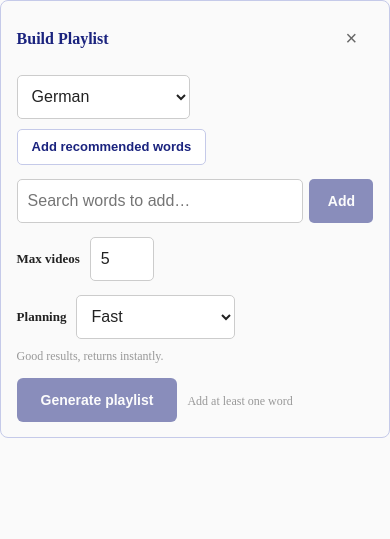
Test: PlaylistPanel planner selector › keeps the generic message for non-503 failures
Click the button "Add recommended words" at (111, 147), box [17,129,206,165]
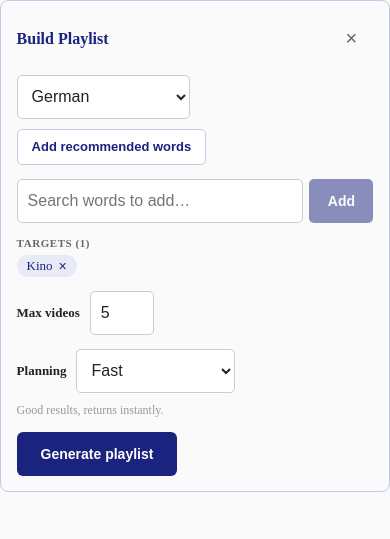
Expected: the text "Kino" is shown, [27,258,53,273]
Click the button with test id "playlist-generate" at (97, 454), box [17,432,177,476]
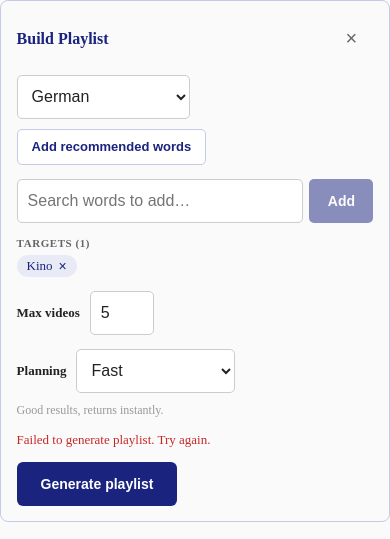
Expected: the text "Failed to generate playlist. Try again." is shown, [17,432,210,447]
